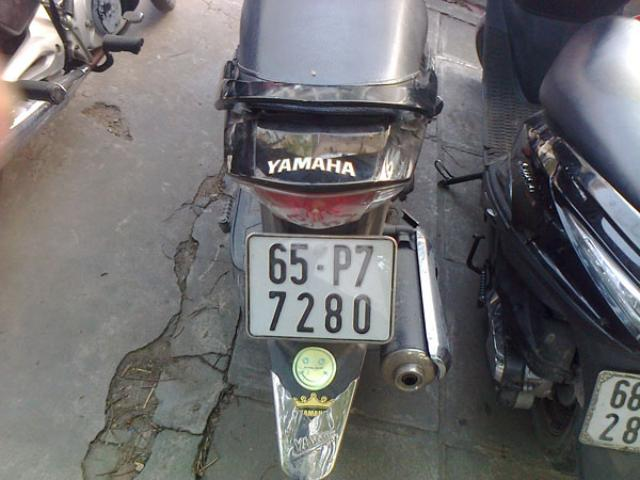plate: (249, 234, 391, 336)
